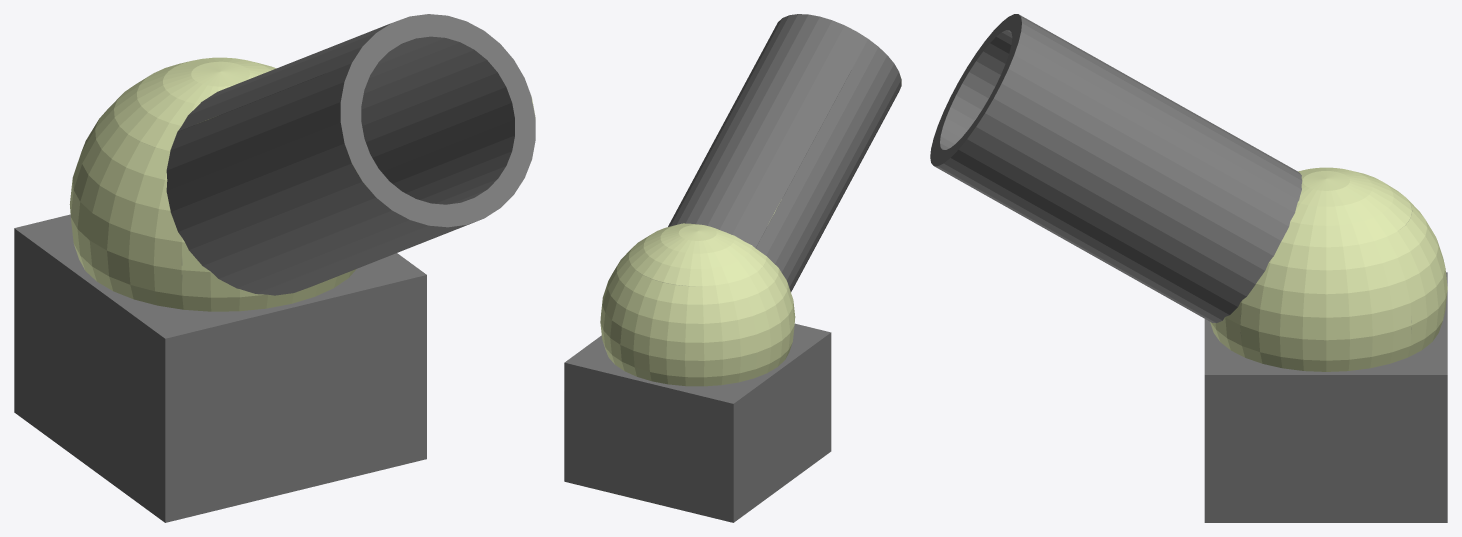
The model's file is Cannon.fbx.
The picture shows the model from 3 angles, left to right: view 1: azimuth 30°, elevation 25°; view 2: azimuth 150°, elevation 25°; view 3: azimuth 270°, elevation 25°; orthographic projection. The views are drawn at different scales.
Visible parts, largest first — view 1: Cannon; view 2: Cannon; view 3: Cannon.
Boxes of the visible parts, x1,y1,x2,y2 form: Cannon: (14, 14, 535, 522); Cannon: (564, 14, 901, 522); Cannon: (930, 14, 1447, 522).
Size of the model in its own units: 200 by 407 by 426.
Materials: 1 (1 with a texture image).
